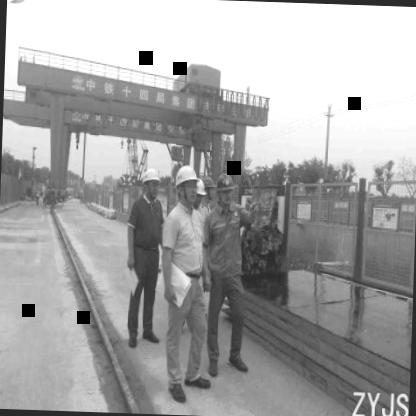helmet: (174, 164, 200, 209), (138, 162, 162, 204), (216, 170, 237, 206), (200, 174, 216, 205)
